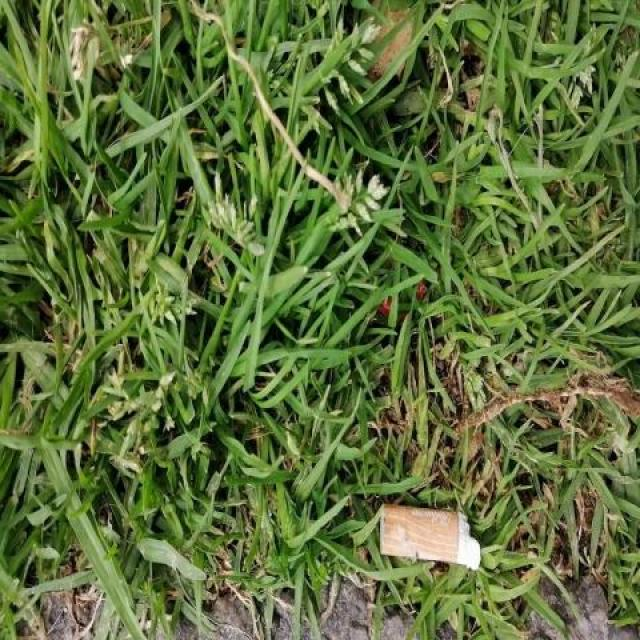non-organic waste: (376, 498, 484, 573)
